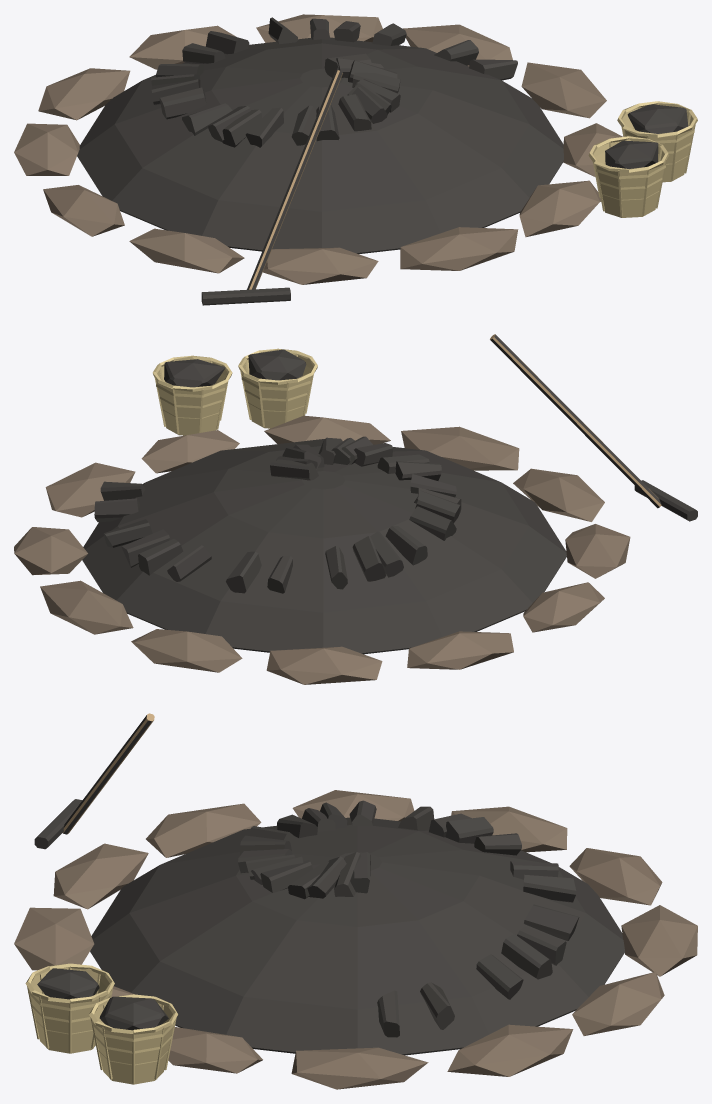
Rendered from w3d_charcoal_clamp_done.glb.
The picture shows the model from 3 angles, top to bottom: view 1: azimuth 30°, elevation 25°; view 2: azimuth 150°, elevation 25°; view 3: azimuth 270°, elevation 25°; orthographic projection. The views are drawn at different scales.
Parts seen in each view (by area): view 1: w3d_charcoal_clamp_done; view 2: w3d_charcoal_clamp_done; view 3: w3d_charcoal_clamp_done.
Boxes of the visible parts, x1,y1,x2,y2 form: w3d_charcoal_clamp_done: [14, 14, 697, 305]; w3d_charcoal_clamp_done: [14, 334, 697, 684]; w3d_charcoal_clamp_done: [14, 713, 697, 1089].
Bounding box in the file's own units: 2.81 × 0.8626 × 2.81.
